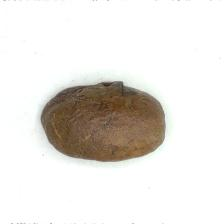NG: (90, 78, 148, 105)
